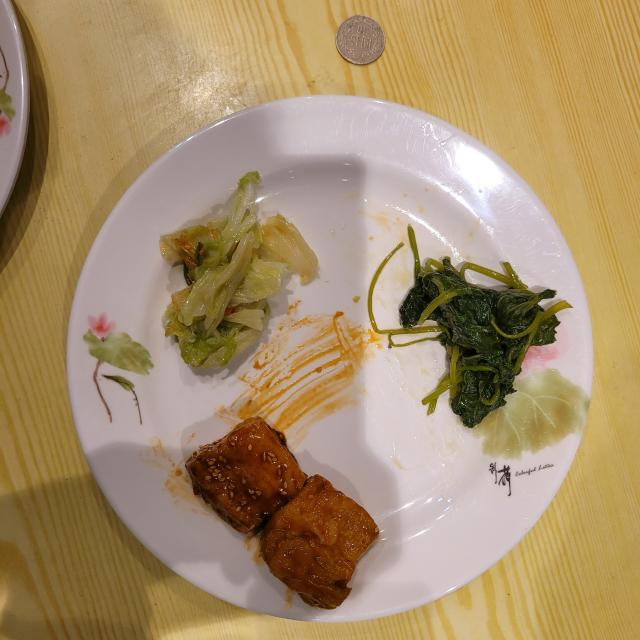cabbage: (160, 171, 318, 369)
coin: (336, 15, 385, 65)
creamy tofu: (186, 418, 379, 609)
sweet potato leaves: (368, 225, 572, 428)
